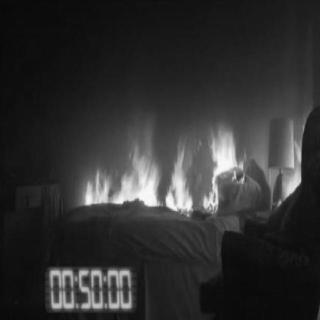Fire: (274, 113, 308, 211)
